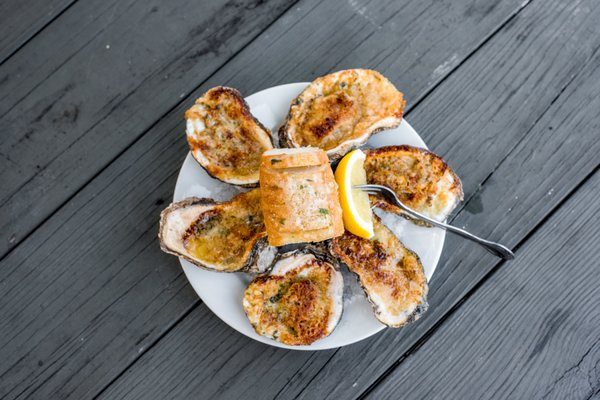salad: (357, 181, 516, 261)
soup: (258, 146, 345, 247)
